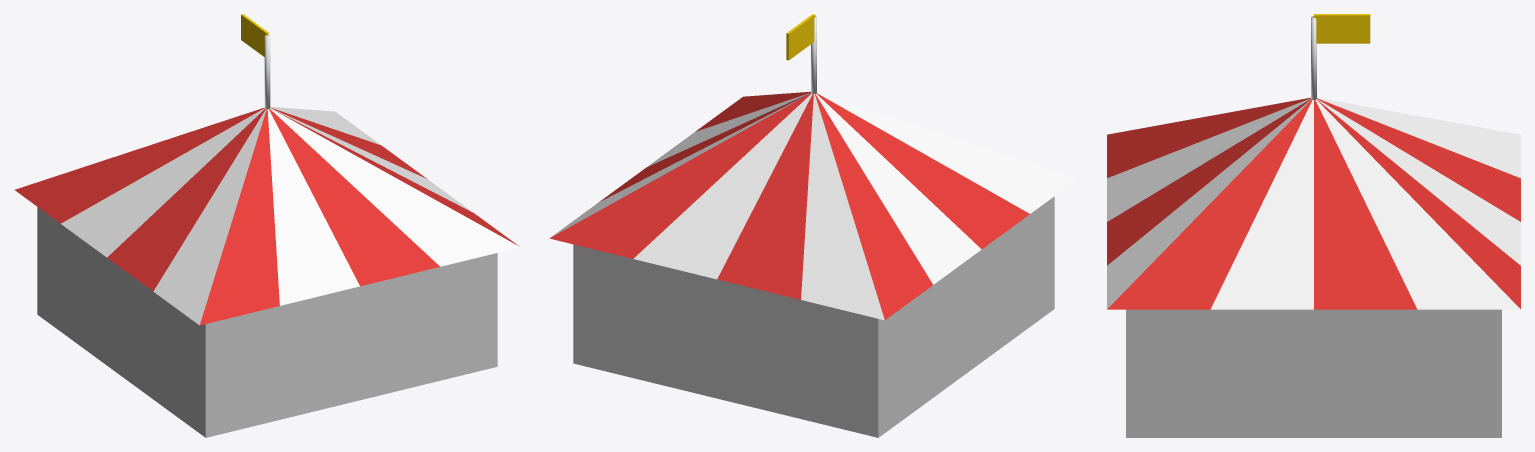
Rendered from Tent.glb.
3 renders of one model, left to right at view 1: azimuth 30°, elevation 25°; view 2: azimuth 150°, elevation 25°; view 3: azimuth 270°, elevation 25°, orthographic. The views are drawn at different scales.
Parts seen in each view (by area): view 1: Tent; view 2: Tent; view 3: Tent.
Part boxes in pixels (x1,y1,x2,y2): Tent: (15, 14, 520, 437); Tent: (549, 14, 1078, 437); Tent: (1107, 14, 1520, 437).
Size of the model in its own units: 6.6 by 6.05 by 6.6.
